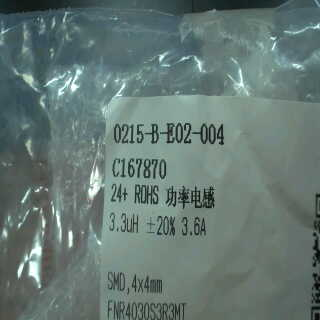3.3uH: (107, 208, 142, 242)
